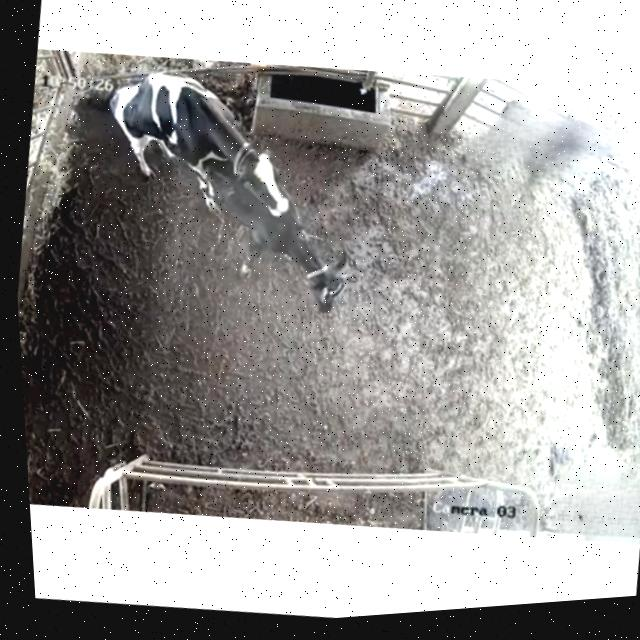ride: (72, 44, 313, 260)
